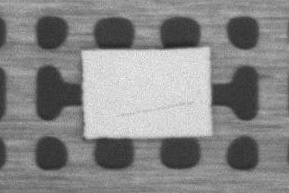DIE_CRACK: (175, 68, 289, 77)
